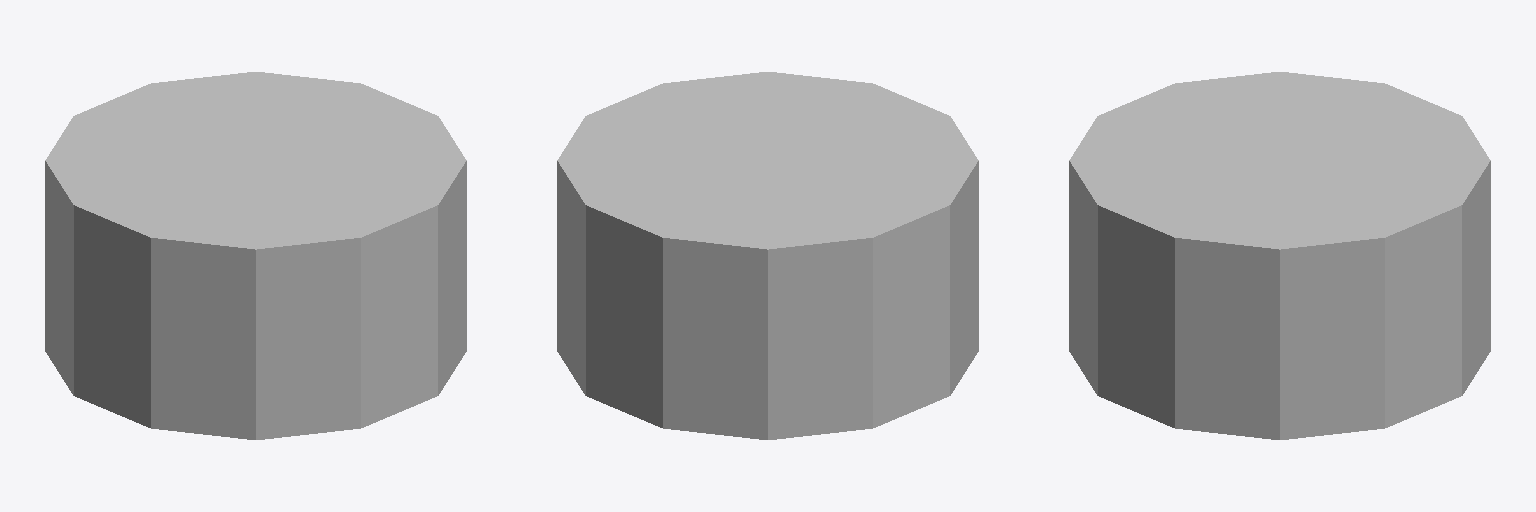
File: Cilindro.obj
3 renders of one model, left to right at view 1: azimuth 30°, elevation 25°; view 2: azimuth 150°, elevation 25°; view 3: azimuth 270°, elevation 25°, orthographic.
Visible parts, largest first — view 1: Cylinder; view 2: Cylinder; view 3: Cylinder.
Boxes of the visible parts, x1=… form: Cylinder: x1=45, y1=72, x2=466, y2=439; Cylinder: x1=557, y1=72, x2=978, y2=439; Cylinder: x1=1069, y1=72, x2=1490, y2=439.
Bounding box in the file's own units: 2 × 1 × 2.